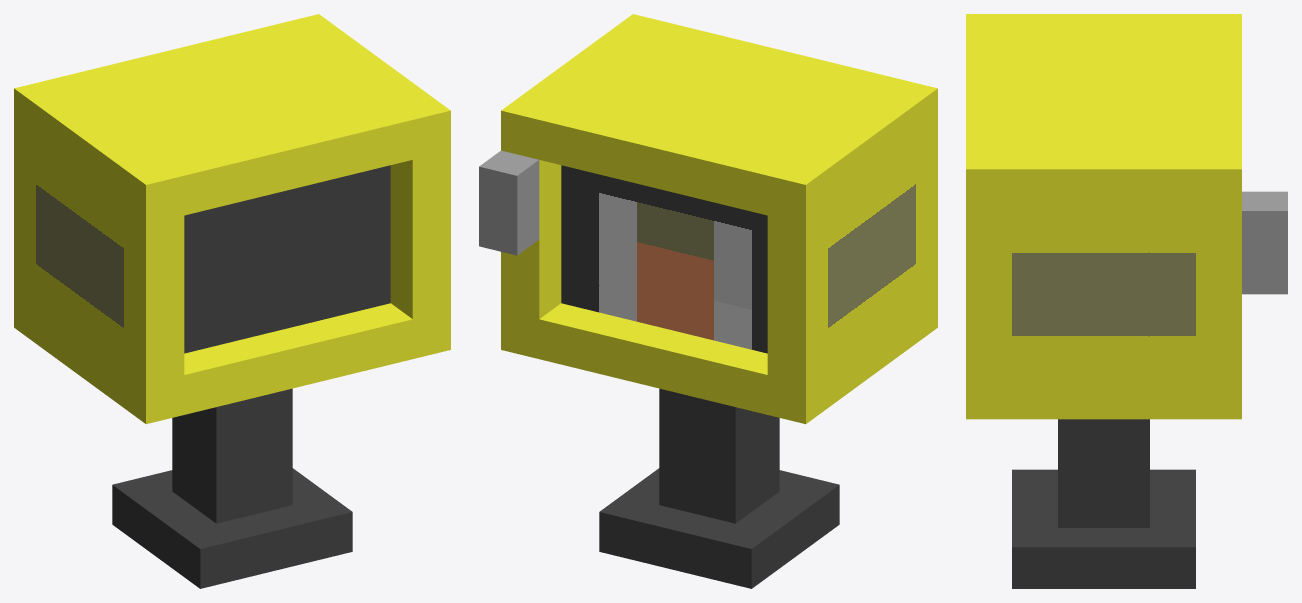
Rendered from obj_newsbox2.fbx.
3 renders of one model, left to right at view 1: azimuth 30°, elevation 25°; view 2: azimuth 150°, elevation 25°; view 3: azimuth 270°, elevation 25°, orthographic. The views are drawn at different scales.
Parts seen in each view (by area): view 1: obj_newsbox2; view 2: obj_newsbox2; view 3: obj_newsbox2.
Boxes of the visible parts, x1=… form: obj_newsbox2: x1=14, y1=14, x2=450, y2=588; obj_newsbox2: x1=479, y1=14, x2=937, y2=588; obj_newsbox2: x1=966, y1=14, x2=1287, y2=588.
Bounding box in the file's own units: 0.8 × 0.7 × 1.1.
1 material, 1 textured.
